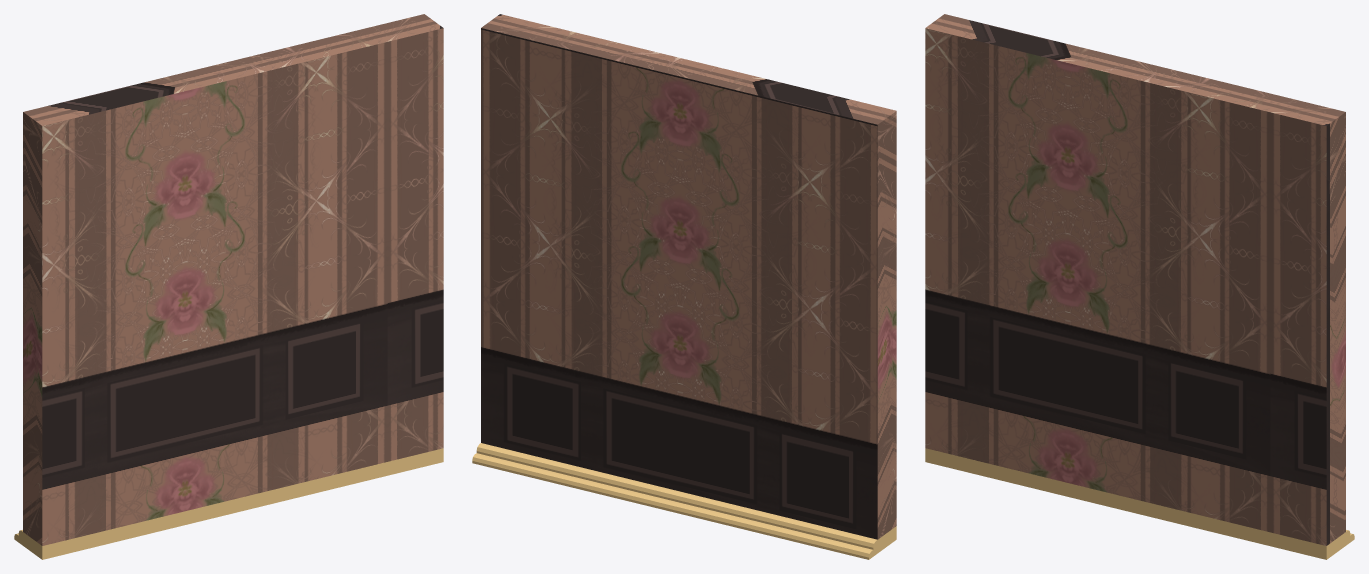
The model's file is BaseWall.fbx.
The picture shows the model from 3 angles, left to right: view 1: azimuth 30°, elevation 25°; view 2: azimuth 150°, elevation 25°; view 3: azimuth 330°, elevation 25°; orthographic projection.
Visible parts, largest first — view 1: Wall, WallTrim; view 2: Wall, WallTrim; view 3: Wall, WallTrim.
Boxes of the visible parts, box(x1,y1,x2,y2) form: Wall: box(23, 14, 443, 545); WallTrim: box(14, 448, 443, 559); Wall: box(481, 14, 896, 539); WallTrim: box(472, 443, 896, 559); Wall: box(925, 14, 1345, 545); WallTrim: box(925, 448, 1354, 559).
Bounding box in the file's own units: 600 × 620 × 72.96.
